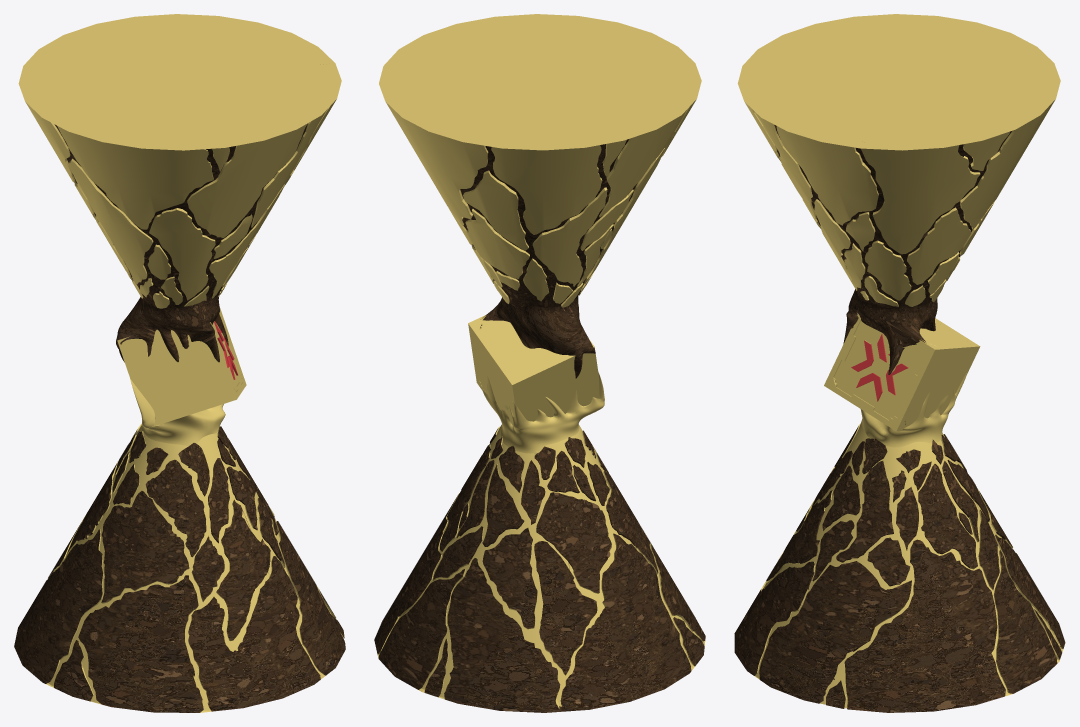
File: trofeu_3d_otimizado.glb
3 renders of one model, left to right at view 1: azimuth 30°, elevation 25°; view 2: azimuth 150°, elevation 25°; view 3: azimuth 270°, elevation 25°, orthographic.
Visible parts, largest first — view 1: Cavidade_de_Ouro_Superior001__0_n3d_0, Cavidade_de_Ouro_Superior001__0_n3d_3, Cavidade_de_Ouro_Superior001__0_n3d_4, Cavidade_de_Ouro_Superior001__0_n3d_1, Cavidade_de_Ouro_Superior001__0_n3d_2; view 2: Cavidade_de_Ouro_Superior001__0_n3d_0, Cavidade_de_Ouro_Superior001__0_n3d_3, Cavidade_de_Ouro_Superior001__0_n3d_4, Cavidade_de_Ouro_Superior001__0_n3d_1, Cavidade_de_Ouro_Superior001__0_n3d_2; view 3: Cavidade_de_Ouro_Superior001__0_n3d_0, Cavidade_de_Ouro_Superior001__0_n3d_3, Cavidade_de_Ouro_Superior001__0_n3d_4, Cavidade_de_Ouro_Superior001__0_n3d_7, Cavidade_de_Ouro_Superior001__0_n3d_1, Cavidade_de_Ouro_Superior001__0_n3d_2, Cavidade_de_Ouro_Superior001__0_n3d_9.
Part boxes in pixels (x1,y1,x2,y2): Cavidade_de_Ouro_Superior001__0_n3d_0: (18, 14, 341, 712); Cavidade_de_Ouro_Superior001__0_n3d_3: (14, 426, 345, 712); Cavidade_de_Ouro_Superior001__0_n3d_4: (48, 426, 343, 710); Cavidade_de_Ouro_Superior001__0_n3d_1: (54, 124, 307, 640); Cavidade_de_Ouro_Superior001__0_n3d_2: (116, 293, 228, 362); Cavidade_de_Ouro_Superior001__0_n3d_0: (377, 14, 705, 708); Cavidade_de_Ouro_Superior001__0_n3d_3: (374, 429, 705, 712); Cavidade_de_Ouro_Superior001__0_n3d_4: (398, 425, 703, 706); Cavidade_de_Ouro_Superior001__0_n3d_1: (460, 139, 637, 361); Cavidade_de_Ouro_Superior001__0_n3d_2: (495, 296, 594, 378); Cavidade_de_Ouro_Superior001__0_n3d_0: (737, 14, 1063, 698); Cavidade_de_Ouro_Superior001__0_n3d_3: (734, 426, 1065, 712); Cavidade_de_Ouro_Superior001__0_n3d_4: (755, 426, 1061, 708); Cavidade_de_Ouro_Superior001__0_n3d_7: (834, 320, 925, 419); Cavidade_de_Ouro_Superior001__0_n3d_1: (774, 125, 1011, 492); Cavidade_de_Ouro_Superior001__0_n3d_2: (849, 289, 937, 374); Cavidade_de_Ouro_Superior001__0_n3d_9: (851, 334, 908, 401).
Size of the model in its own units: 0.0597 by 0.1114 by 0.0596.
10 materials, 6 textured.
